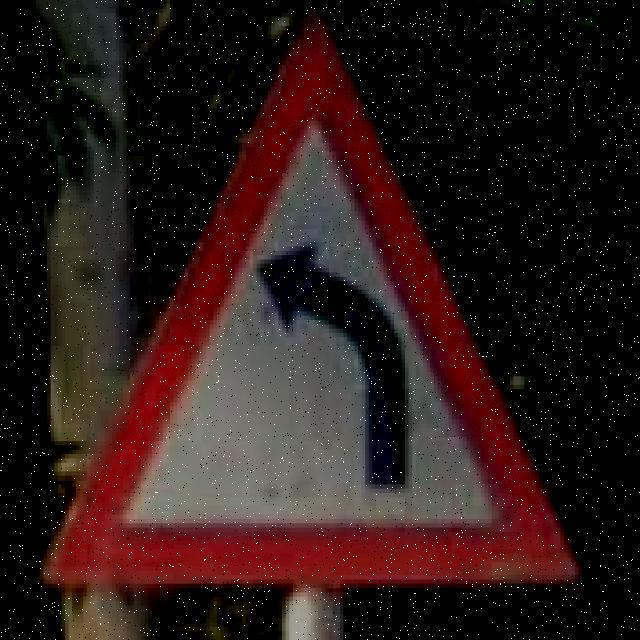Left-Turn: (11, 7, 637, 633)
